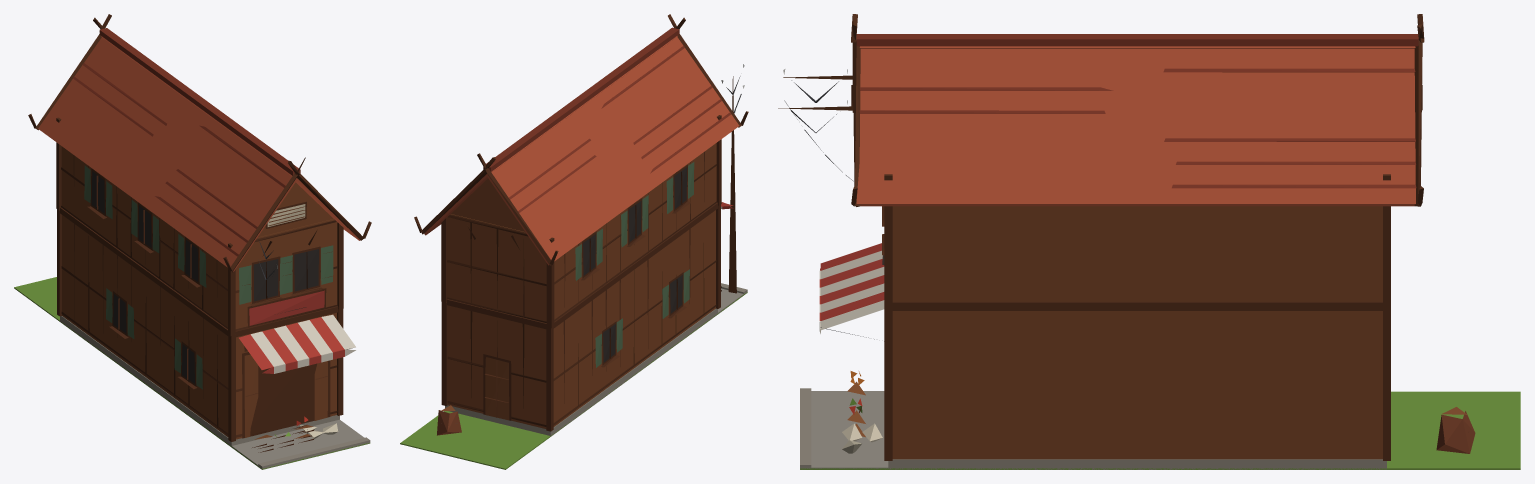
The model's file is bay1_left.glb.
3 renders of one model, left to right at view 1: azimuth 30°, elevation 25°; view 2: azimuth 150°, elevation 25°; view 3: azimuth 270°, elevation 25°, orthographic. The views are drawn at different scales.
Visible parts, largest first — view 1: body, windows; view 2: body, windows; view 3: body.
Part boxes in pixels (x1,y1,x2,y2): body: (14, 14, 371, 469); windows: (91, 171, 318, 383); body: (400, 14, 748, 469); windows: (583, 167, 687, 362); body: (778, 14, 1520, 469).
Bounding box in the file's own units: 5.46 × 10.06 × 16.4.
